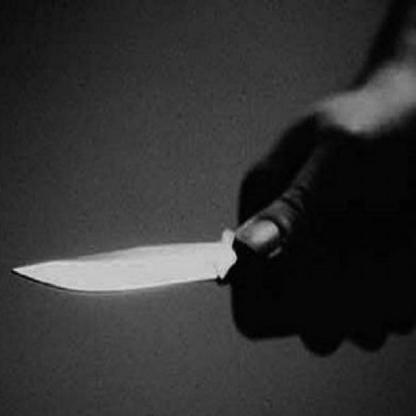Knife: (12, 228, 245, 295)
